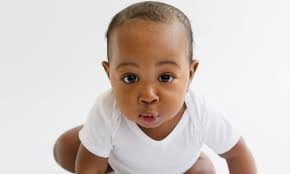person: (103, 1, 200, 130)
